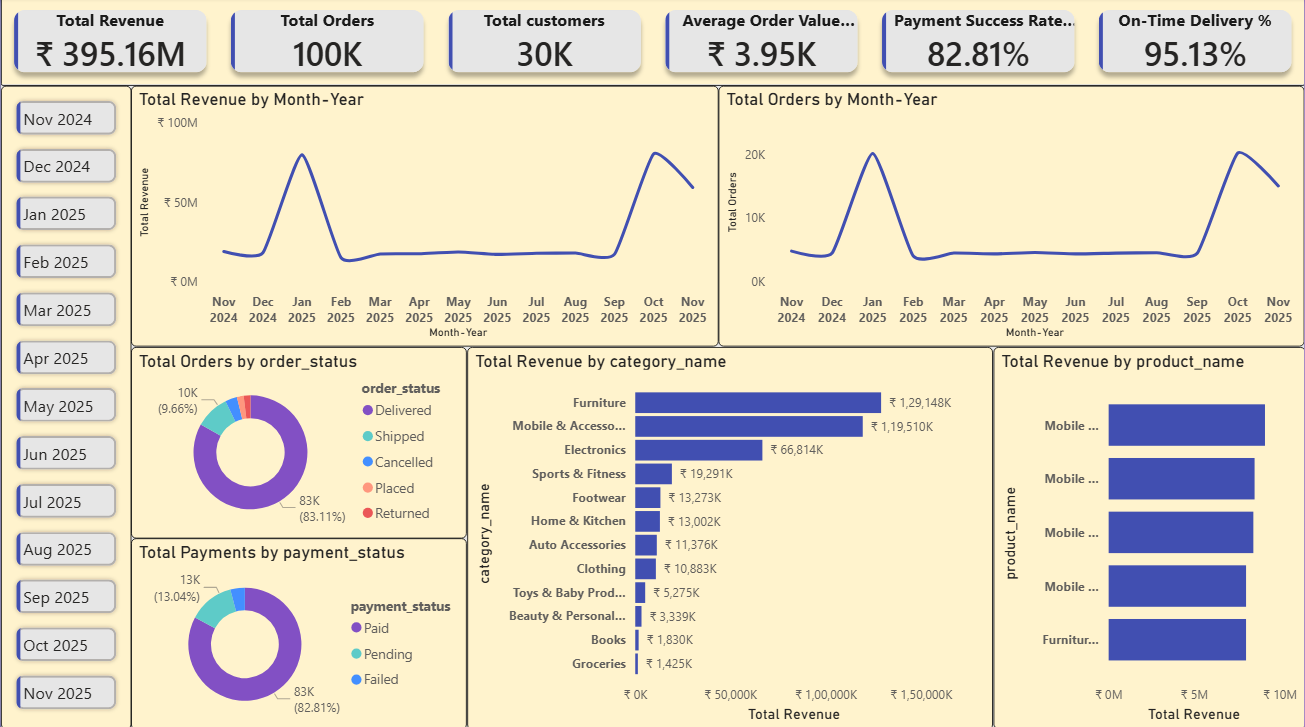

The dashboard page shown, as its layout file describes it:
{"tool":"powerbi","page":{"name":"Page 1","canvas":[1280,720],"ordinal":0},"visuals":[{"type":"cardVisual","title":"Business KPI","fields":{"Data":["Measure.Total Revenue","Measure.Total Orders","Measure.Total customers","Measure.Average Order Value (AOV)","Measure.Payment Success Rate (%)","Measure.On-Time Delivery %"]},"box":[0,0,1280.3,87.5],"z":0},{"type":"lineChart","fields":{"Y":["Measure.Total Revenue"],"Category":["DateTable.Month-Year"]},"box":[128,87.5,576.7,256.1],"z":1000},{"type":"lineChart","fields":{"Y":["Measure.Total Orders"],"Category":["DateTable.Month-Year"]},"box":[704.8,87.5,575.5,256.1],"z":2000},{"type":"donutChart","fields":{"Category":["public orders.order_status"],"Y":["Measure.Total Orders"]},"box":[128,343.5,329.6,187.6],"z":3000},{"type":"donutChart","fields":{"Category":["public payments.payment_status"],"Y":["Measure.Total Payments"]},"box":[128,531.1,329.6,188.9],"z":4000},{"type":"advancedSlicerVisual","fields":{"Values":["DateTable.Month-Year"]},"box":[0,87.5,128,632.5],"z":5000},{"type":"barChart","fields":{"Category":["public categories.category_name"],"Y":["Measure.Total Revenue"]},"box":[457.6,343.5,515.9,376.5],"z":6000},{"type":"clusteredBarChart","fields":{"Category":["public products.product_name"],"Y":["Measure.Total Revenue"]},"box":[974,344,306,376],"z":7000}]}

Visuals, with their boxes in screenshot pixels (x1, y1, x2, y2), scaled from the page's 1280x720 canvas onto the 1305x727 screenshot:
"Business KPI" cardVisual: pyautogui.locateOnScreen(0, 0, 1304, 88)
lineChart - Measure.Total Revenue x DateTable.Month-Year: pyautogui.locateOnScreen(130, 88, 718, 347)
lineChart - Measure.Total Orders x DateTable.Month-Year: pyautogui.locateOnScreen(719, 88, 1304, 347)
donutChart - public orders.order_status x Measure.Total Orders: pyautogui.locateOnScreen(130, 347, 467, 536)
donutChart - public payments.payment_status x Measure.Total Payments: pyautogui.locateOnScreen(130, 536, 467, 726)
advancedSlicerVisual - DateTable.Month-Year: pyautogui.locateOnScreen(0, 88, 130, 726)
barChart - public categories.category_name x Measure.Total Revenue: pyautogui.locateOnScreen(467, 347, 993, 726)
clusteredBarChart - public products.product_name x Measure.Total Revenue: pyautogui.locateOnScreen(993, 347, 1304, 726)
